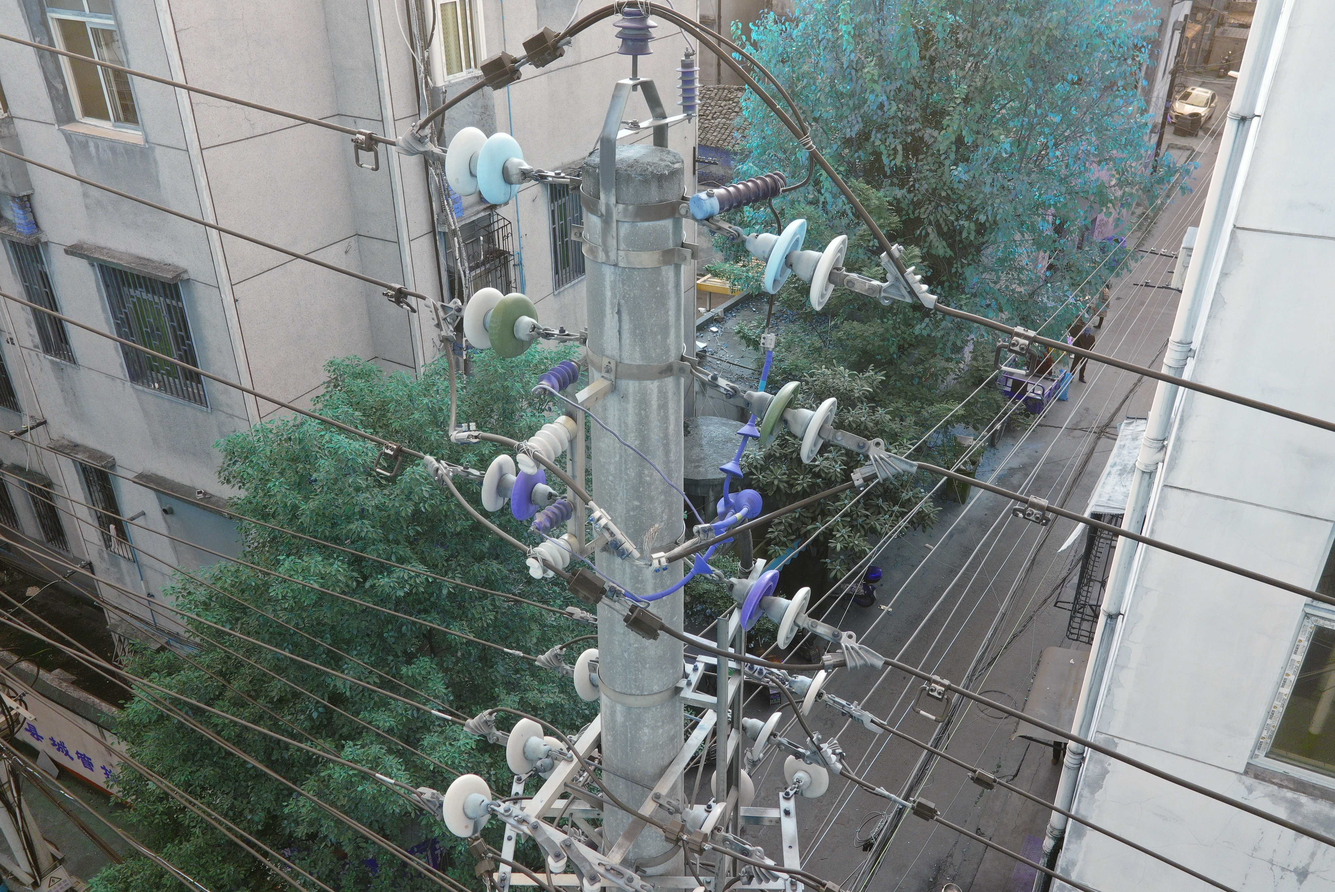severe_soiling_no_discharge_whole: (440, 770, 499, 840)
